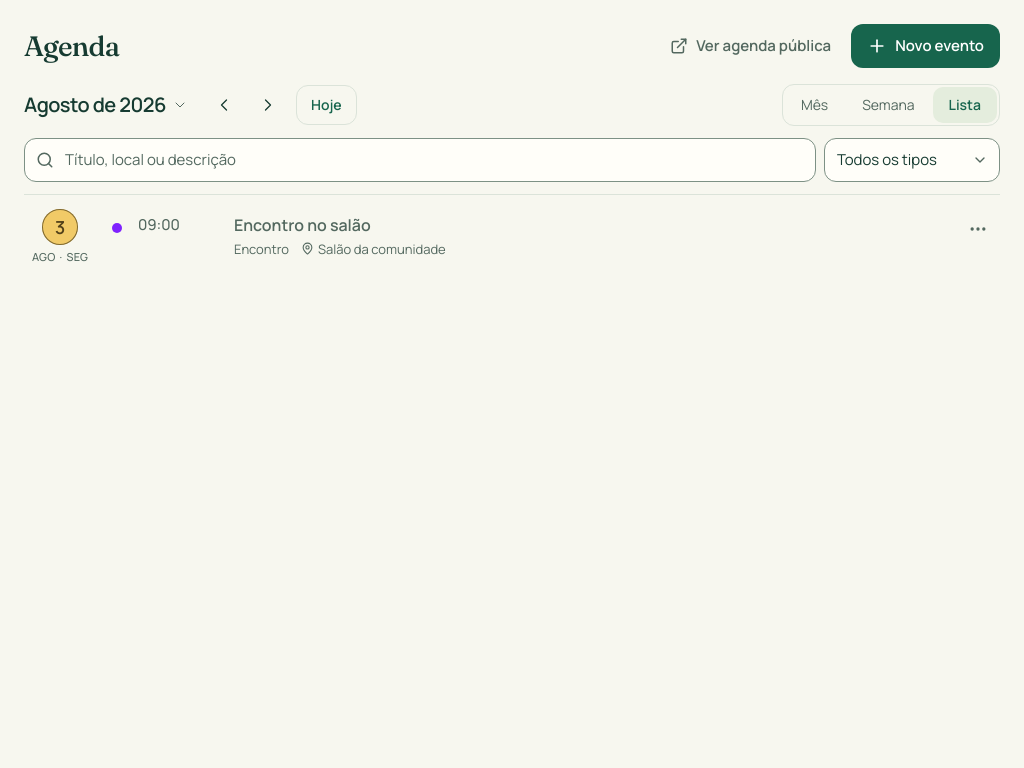
Test: AdminCalendarPage › não foca automaticamente o local personalizado ao abrir uma edição mobile
Click the button with aria-label "Editar Encontro no salão": point(302, 225) [234,213,371,237]
(page scrolled)
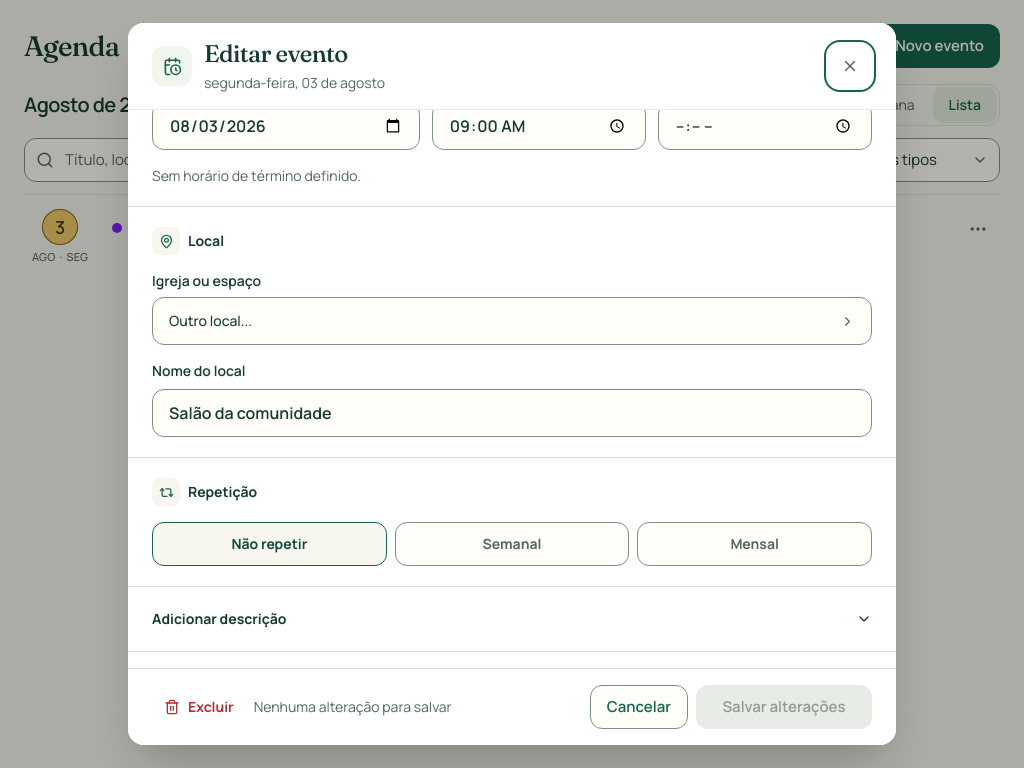
Result: the field labelled "Nome do local" holds "Salão da comunidade" at [152,389,872,437]
